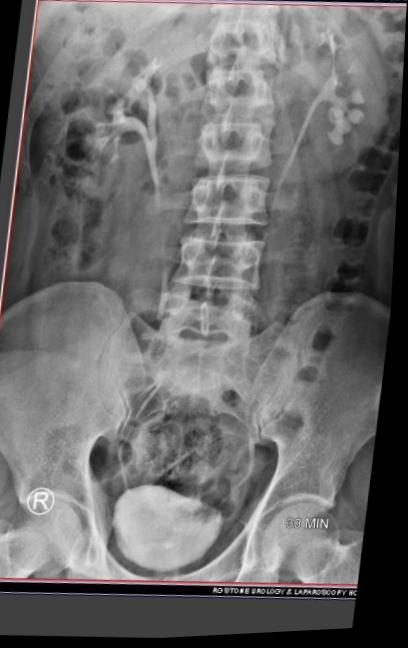bladder: (91, 509, 227, 626)
left kidney: (272, 0, 407, 189)
vertebrae: (181, 48, 278, 118)
